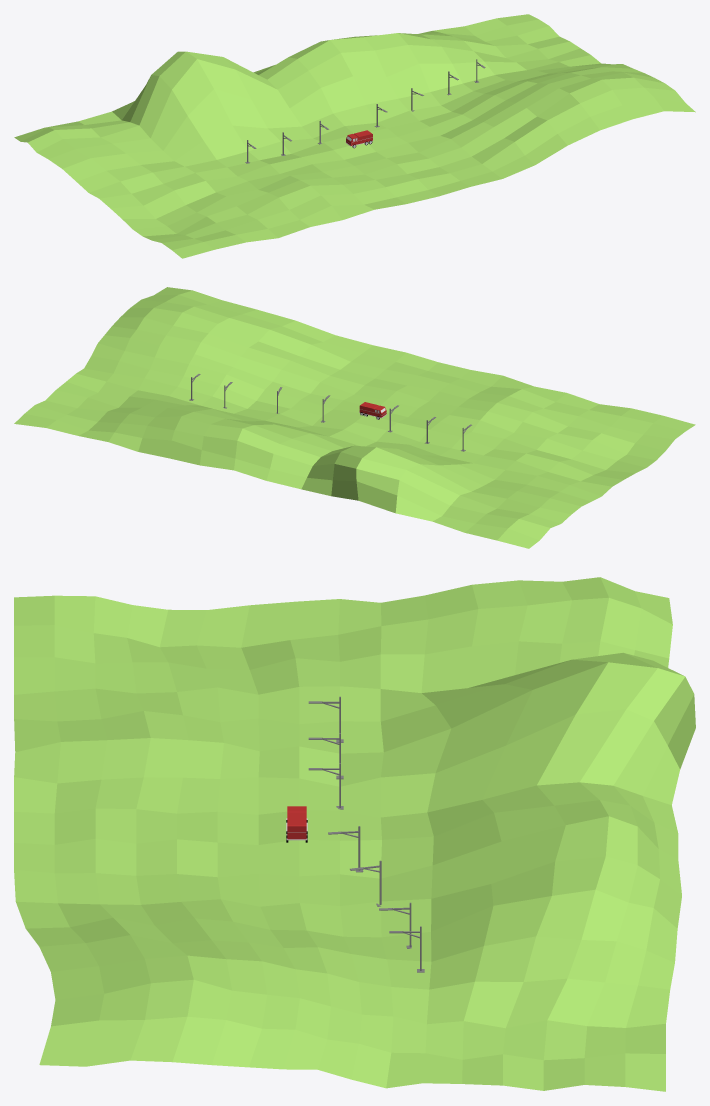
Rendered from experiment1.glb.
3 views of the same model, one above another, from view 1: azimuth 30°, elevation 25°; view 2: azimuth 150°, elevation 25°; view 3: azimuth 270°, elevation 25° (orthographic). The views are drawn at different scales.
Parts seen in each view (by area): view 1: Plane; view 2: Plane; view 3: Plane.
Part boxes in pixels (x1=…): Plane: x1=14, y1=14, x2=695, y2=258; Plane: x1=14, y1=287, x2=695, y2=548; Plane: x1=14, y1=577, x2=695, y2=1091.
Size of the model in its own units: 65.43 by 6.9 by 37.29.
